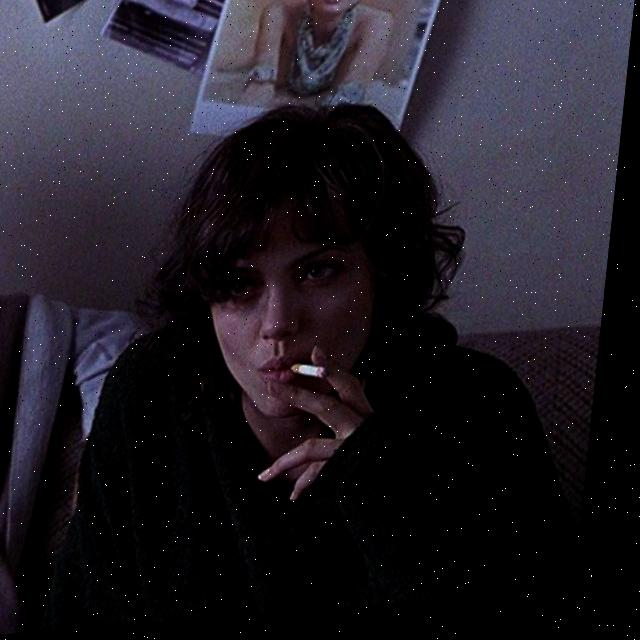cigarette: (297, 367, 338, 388)
